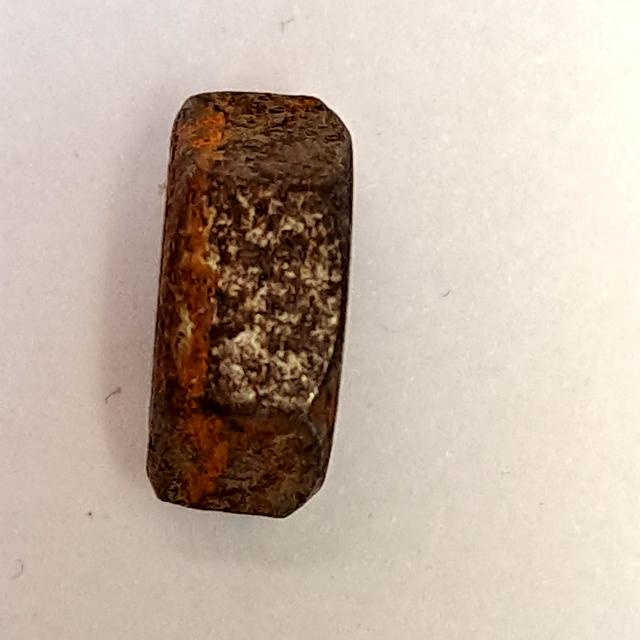Side_Rust: (130, 61, 369, 539)
